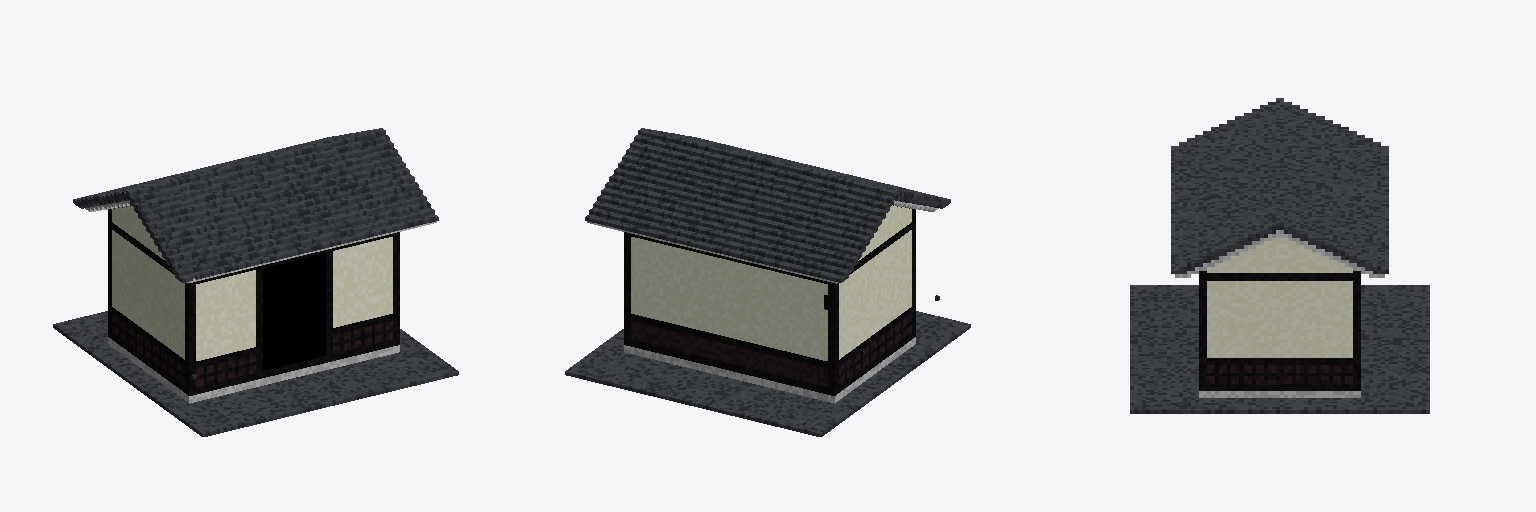
3 renders of one model, left to right at view 1: azimuth 30°, elevation 25°; view 2: azimuth 150°, elevation 25°; view 3: azimuth 270°, elevation 25°, orthographic.
Parts seen in each view (by area): view 1: object 1; view 2: object 1; view 3: object 1.
Boxes of the visible parts, x1,y1,x2,y2 form: object 1: [53, 128, 458, 436]; object 1: [565, 128, 970, 436]; object 1: [1130, 98, 1429, 413].
Size of the model in its own units: 7.3 by 5.2 by 7.4.
Materials: 1 (1 with a texture image).